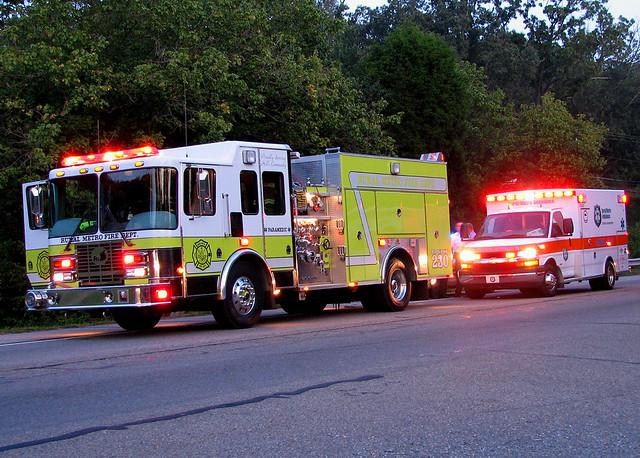ambulance_on: (457, 186, 629, 298)
firetruck_on: (16, 145, 454, 330)
